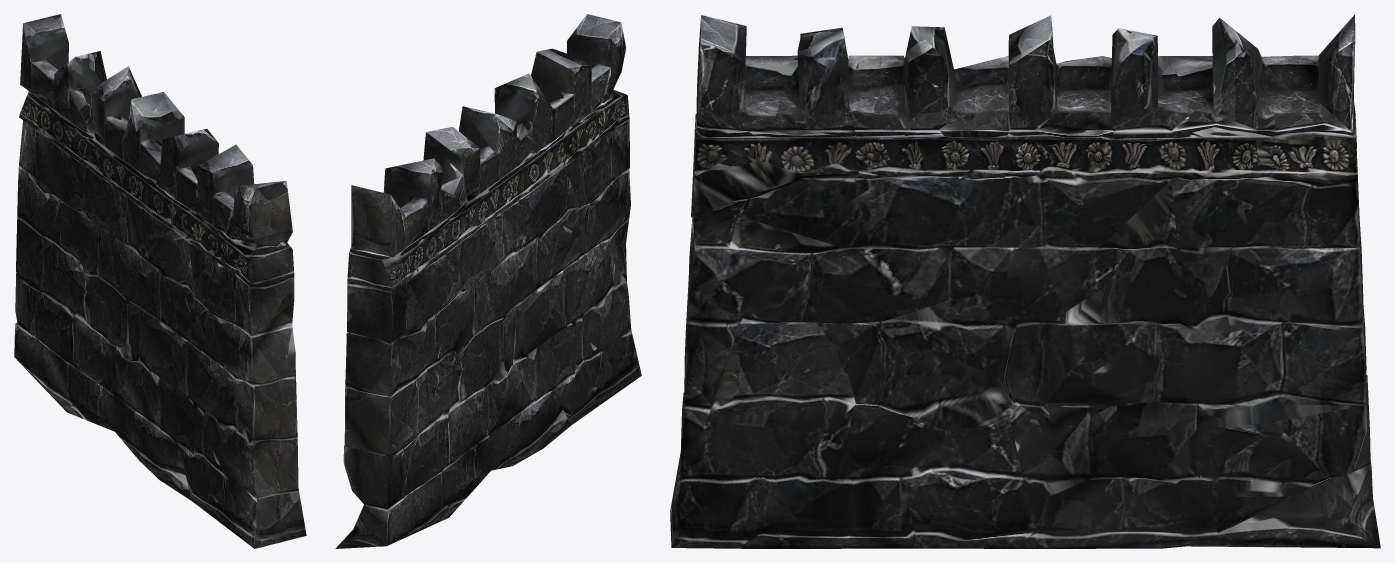
Rendered from castle_wall_diamond_black.glb.
3 views of the same model, side by side, from view 1: azimuth 30°, elevation 25°; view 2: azimuth 150°, elevation 25°; view 3: azimuth 270°, elevation 25° (orthographic). The views are drawn at different scales.
Parts seen in each view (by area): view 1: tripo_node_598d3892-e960-4b4c-a166-150d45067cd7; view 2: tripo_node_598d3892-e960-4b4c-a166-150d45067cd7; view 3: tripo_node_598d3892-e960-4b4c-a166-150d45067cd7.
Boxes of the visible parts, left/top/right/bottom form: tripo_node_598d3892-e960-4b4c-a166-150d45067cd7: left=14, top=14, right=306, bottom=548; tripo_node_598d3892-e960-4b4c-a166-150d45067cd7: left=335, top=14, right=641, bottom=548; tripo_node_598d3892-e960-4b4c-a166-150d45067cd7: left=670, top=14, right=1380, bottom=548.
Size of the model in its own units: 0.1248 by 0.7642 by 0.9758.
Materials: 1 (1 with a texture image).
